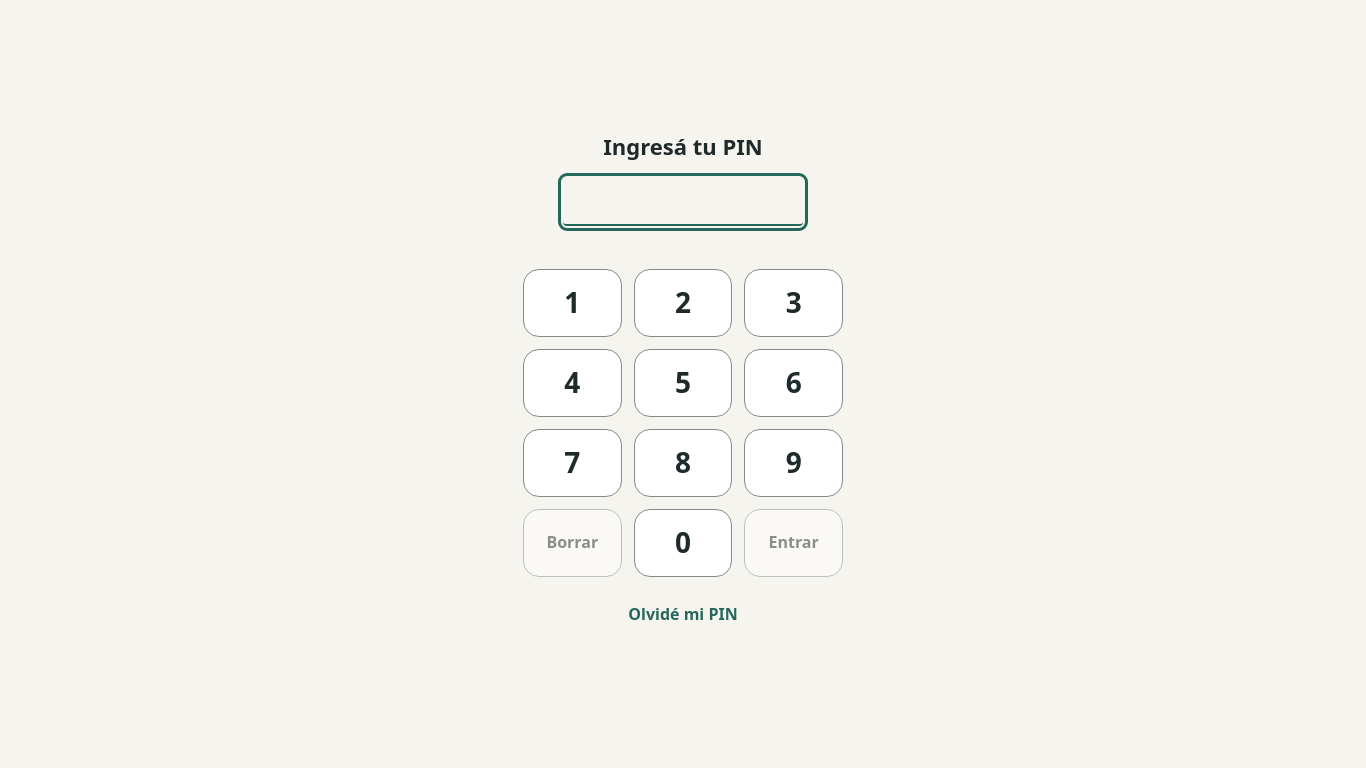
al abrir la app › muestra un punto por dígito tecleado sobre una línea, sin lugares vacíos que delaten el largo
Check: the heading "Ingresá tu PIN" is shown, box [603,131,763,162]
Click the button "1".
click(572, 303)  # box [523,269,622,337]
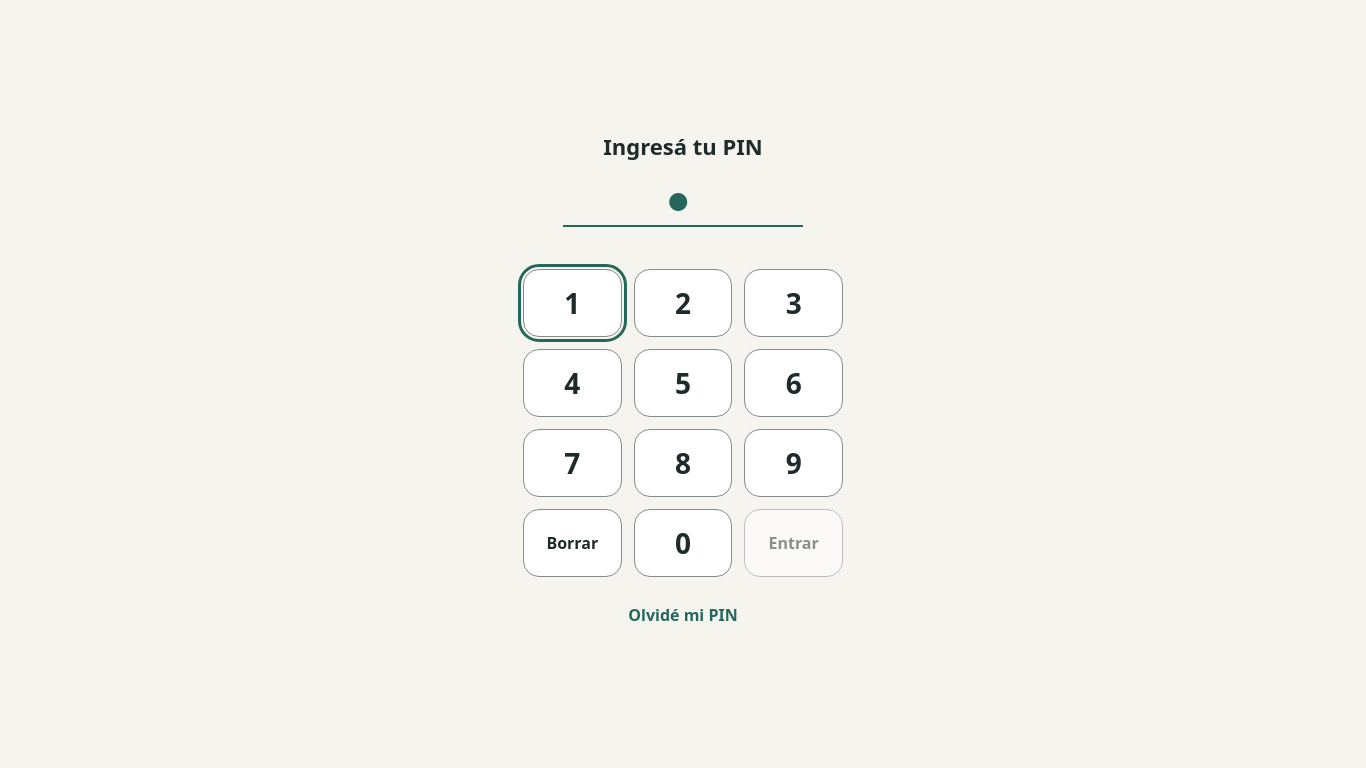
Click the button "2".
click(683, 303)  # box [634,269,732,337]
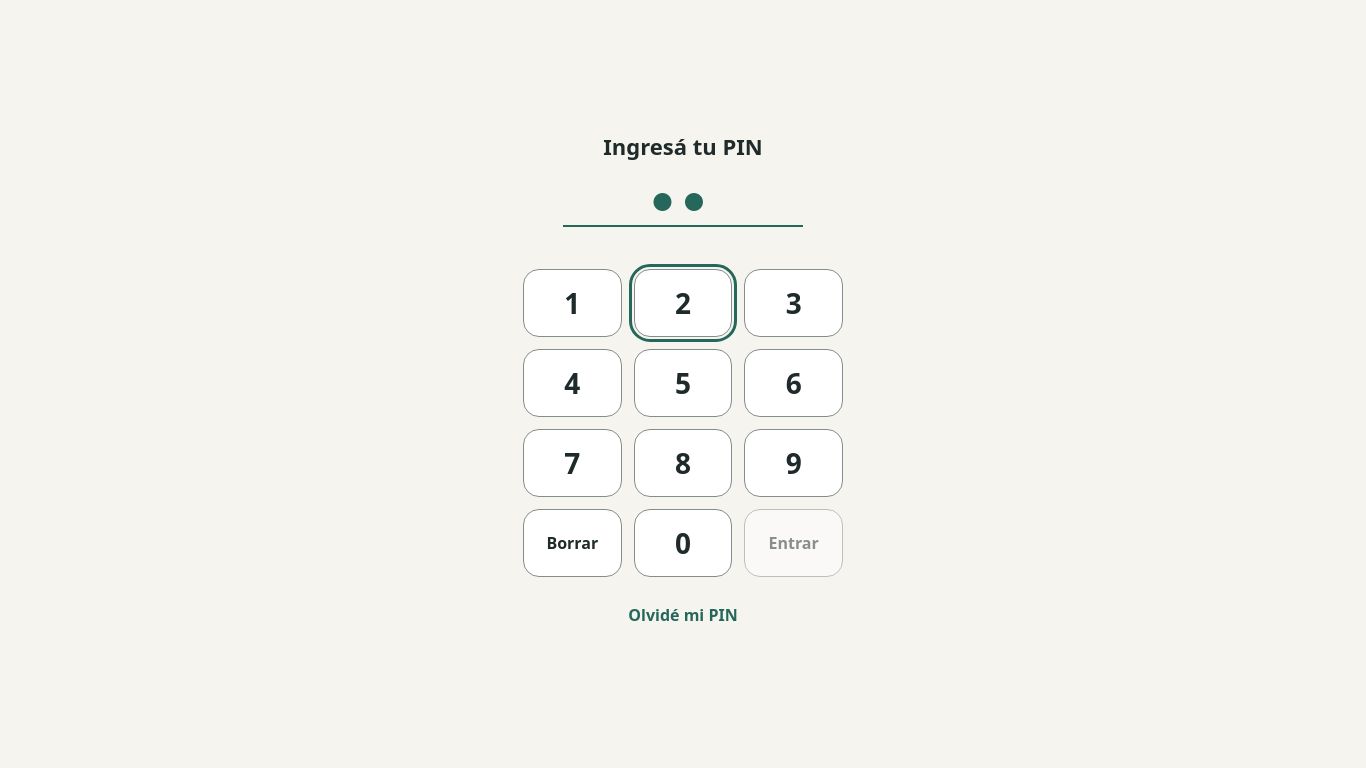
Click the button "3".
click(794, 303)  # box [744,269,843,337]
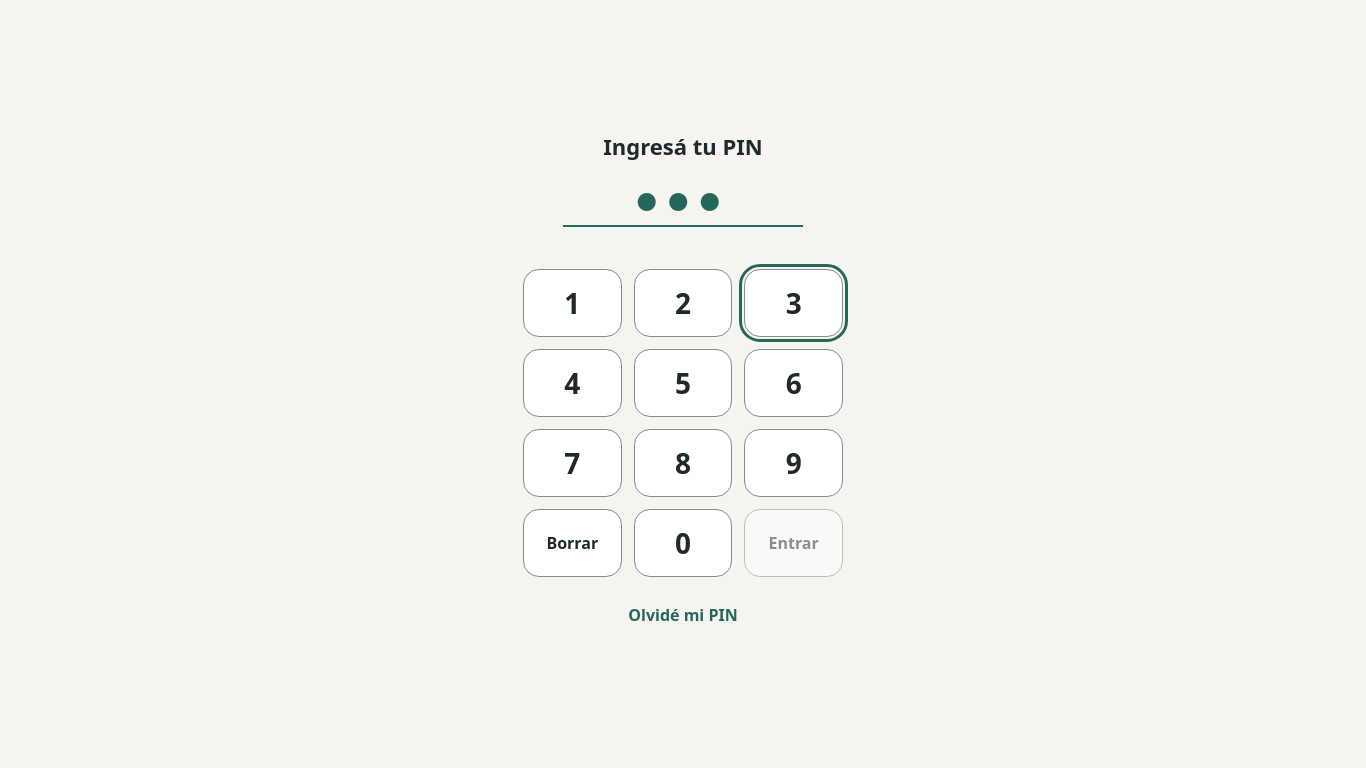
Click the button "4".
click(572, 383)  # box [523,349,622,417]
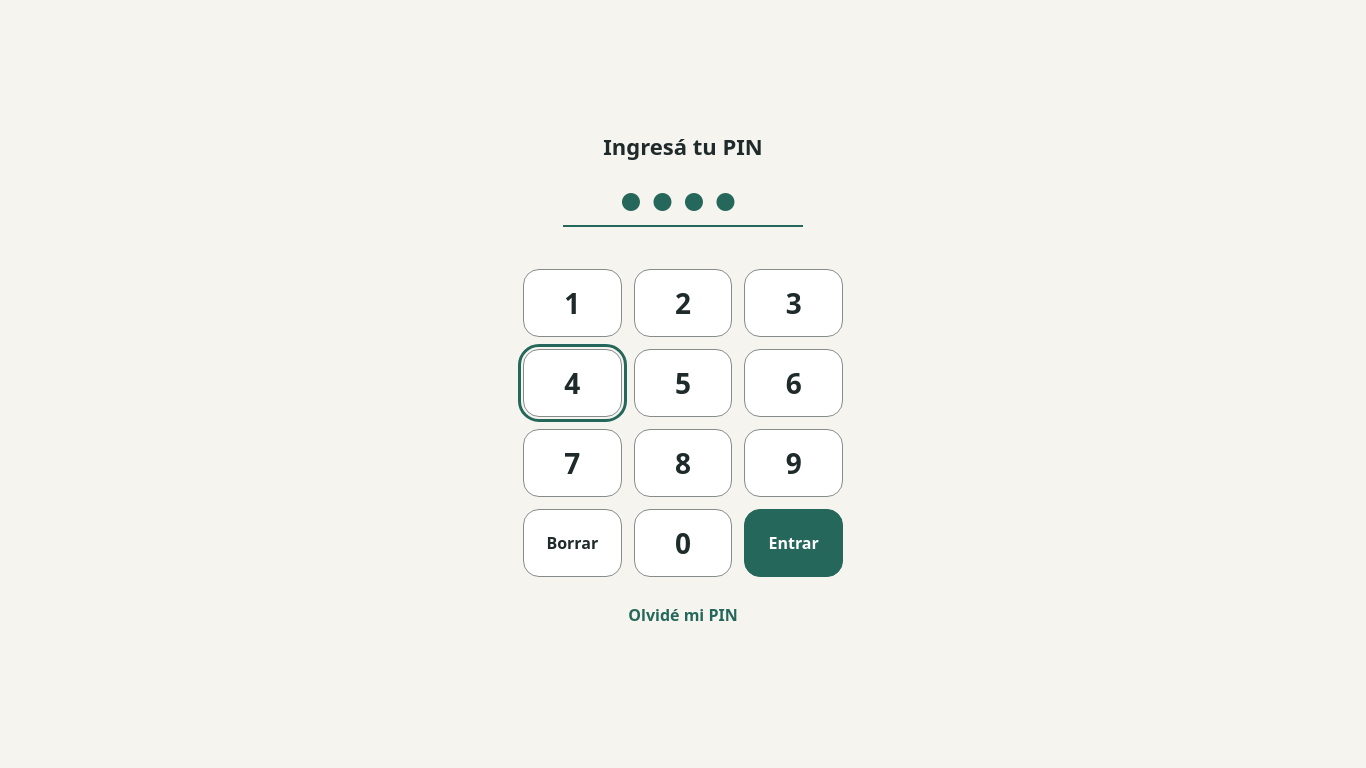
Check: the element named "4 dígitos ingresados" reads "●●●●", box [620,185,746,218]
Click the button "Borrar".
click(572, 543)  # box [523,509,622,577]
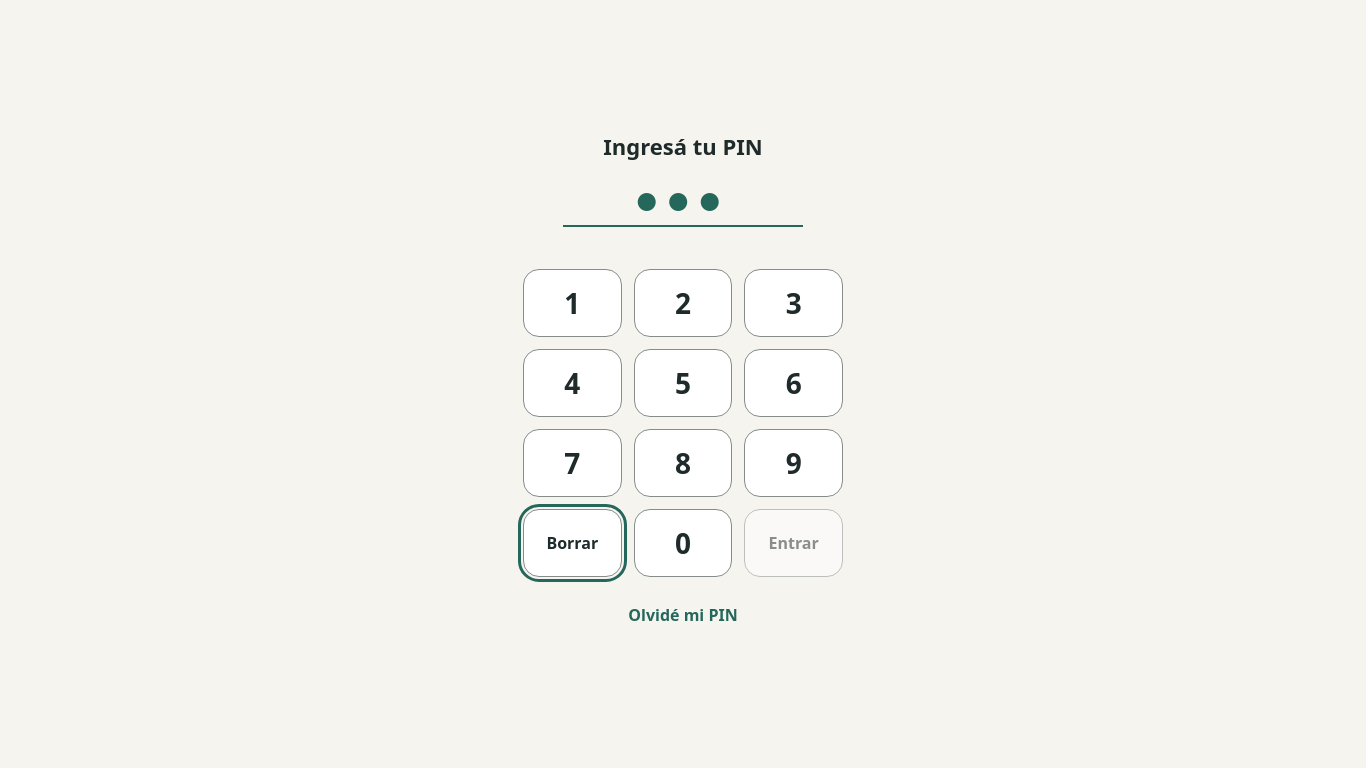
Check: the element named "3 dígitos ingresados" reads "●●●", box [636,185,730,218]
